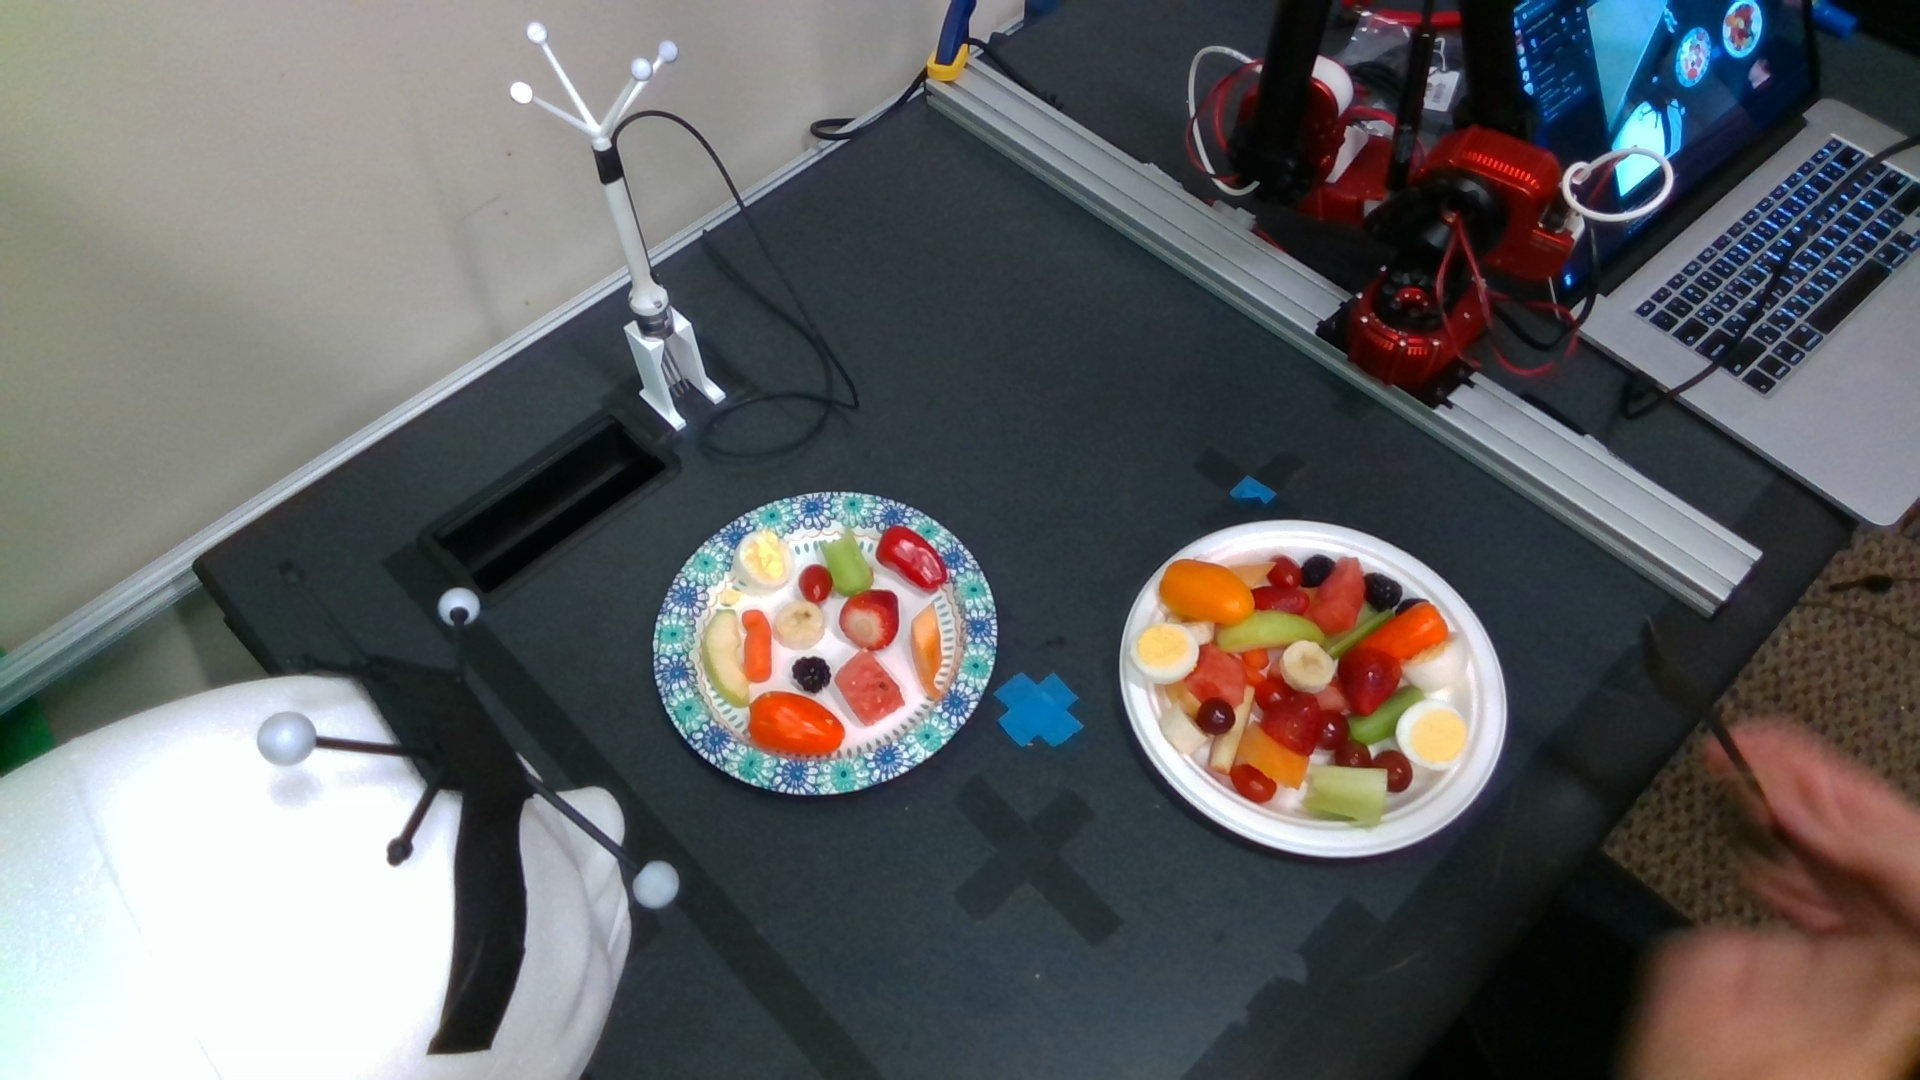apple: (702, 609, 753, 709), (1216, 611, 1327, 651)
banana: (1280, 641, 1335, 694), (774, 600, 824, 647), (1160, 702, 1208, 752)
bell_pepper: (750, 691, 845, 753), (1162, 560, 1253, 624), (1357, 603, 1448, 659), (877, 525, 947, 588)
blackberry: (1364, 574, 1402, 611), (793, 657, 831, 692), (1302, 555, 1335, 587)
cantalope: (911, 605, 945, 698)
carrot: (742, 611, 771, 682)
celery: (1307, 765, 1387, 825), (820, 527, 874, 595)
cherry_tomato: (1232, 764, 1276, 800), (799, 564, 832, 603), (1267, 556, 1302, 585)
egg: (1396, 702, 1468, 769), (1130, 622, 1197, 684), (1403, 633, 1466, 691), (736, 531, 795, 587)
grape_purple: (1373, 750, 1414, 793), (1196, 699, 1236, 735), (1317, 711, 1350, 750), (1335, 740, 1371, 767)
melon: (836, 647, 905, 724), (1311, 558, 1364, 632), (1185, 644, 1245, 705)
strawberry: (1338, 649, 1400, 716), (1261, 692, 1321, 756), (839, 589, 899, 651)
